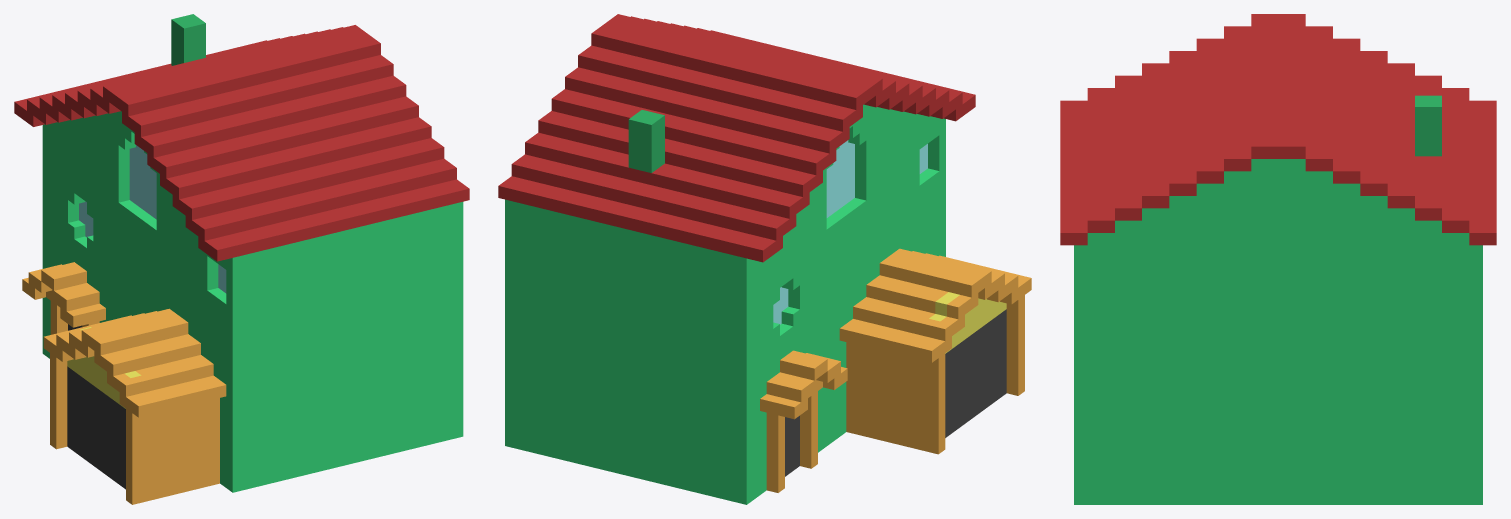
The model's file is cars-17-GreenHouse.obj.
3 views of the same model, side by side, from view 1: azimuth 30°, elevation 25°; view 2: azimuth 150°, elevation 25°; view 3: azimuth 270°, elevation 25° (orthographic). The views are drawn at different scales.
Visible parts, largest first — view 1: GreenHouse; view 2: GreenHouse; view 3: GreenHouse.
Boxes of the visible parts, box(x1,y1,x2,y2) form: GreenHouse: box(14, 14, 469, 504); GreenHouse: box(498, 14, 1031, 504); GreenHouse: box(1060, 14, 1496, 504).
Size of the model in its own units: 2.9 by 2.9 by 3.2.
1 material, 1 textured.
